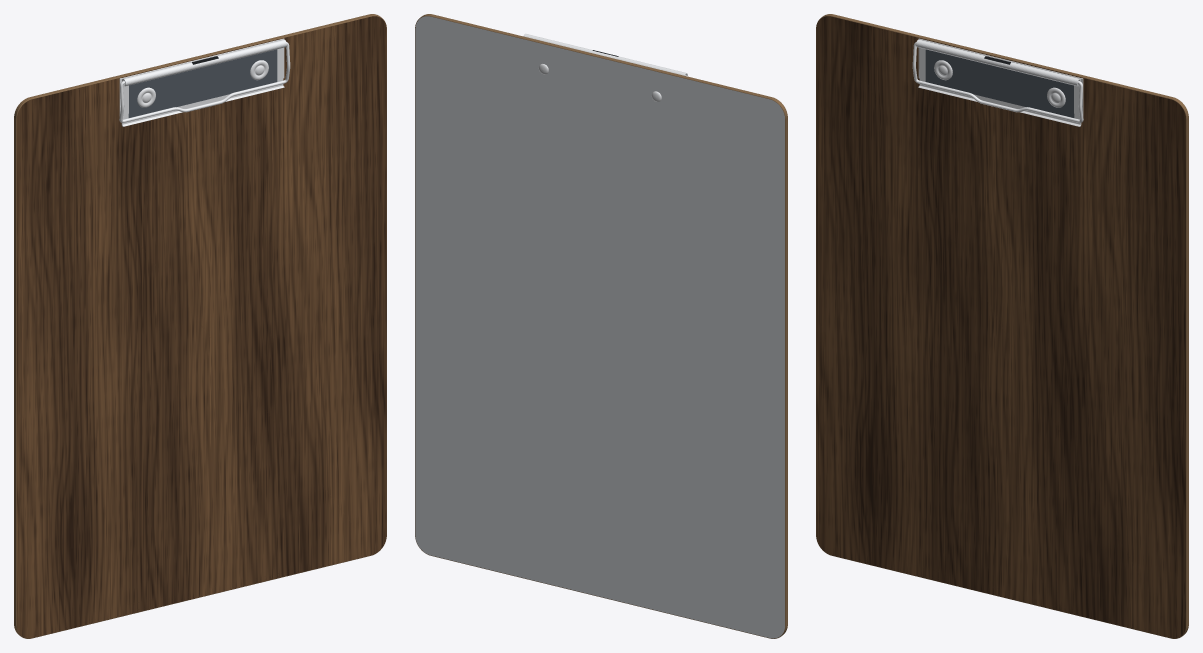
Rendered from laminate-mdf-base-clipboard.glb.
The picture shows the model from 3 angles, left to right: view 1: azimuth 30°, elevation 25°; view 2: azimuth 150°, elevation 25°; view 3: azimuth 330°, elevation 25°; orthographic projection.
Parts seen in each view (by area): view 1: clipboard-board, clipboard-clip, clipboard-clip-lever; view 2: clipboard-board, clipboard-clip; view 3: clipboard-board, clipboard-clip, clipboard-clip-lever.
Boxes of the visible parts, x1,y1,x2,y2 form: clipboard-board: (14,14,386,638); clipboard-clip: (121,39,286,126); clipboard-clip-lever: (119,42,290,122); clipboard-board: (415,14,787,638); clipboard-clip: (523,33,687,75); clipboard-board: (816,14,1188,638); clipboard-clip: (916,39,1081,126); clipboard-clip-lever: (912,42,1083,122).
Size of the model in its own units: 0.23 by 0.32 by 0.0087.
Materials: 6 (1 with a texture image).
